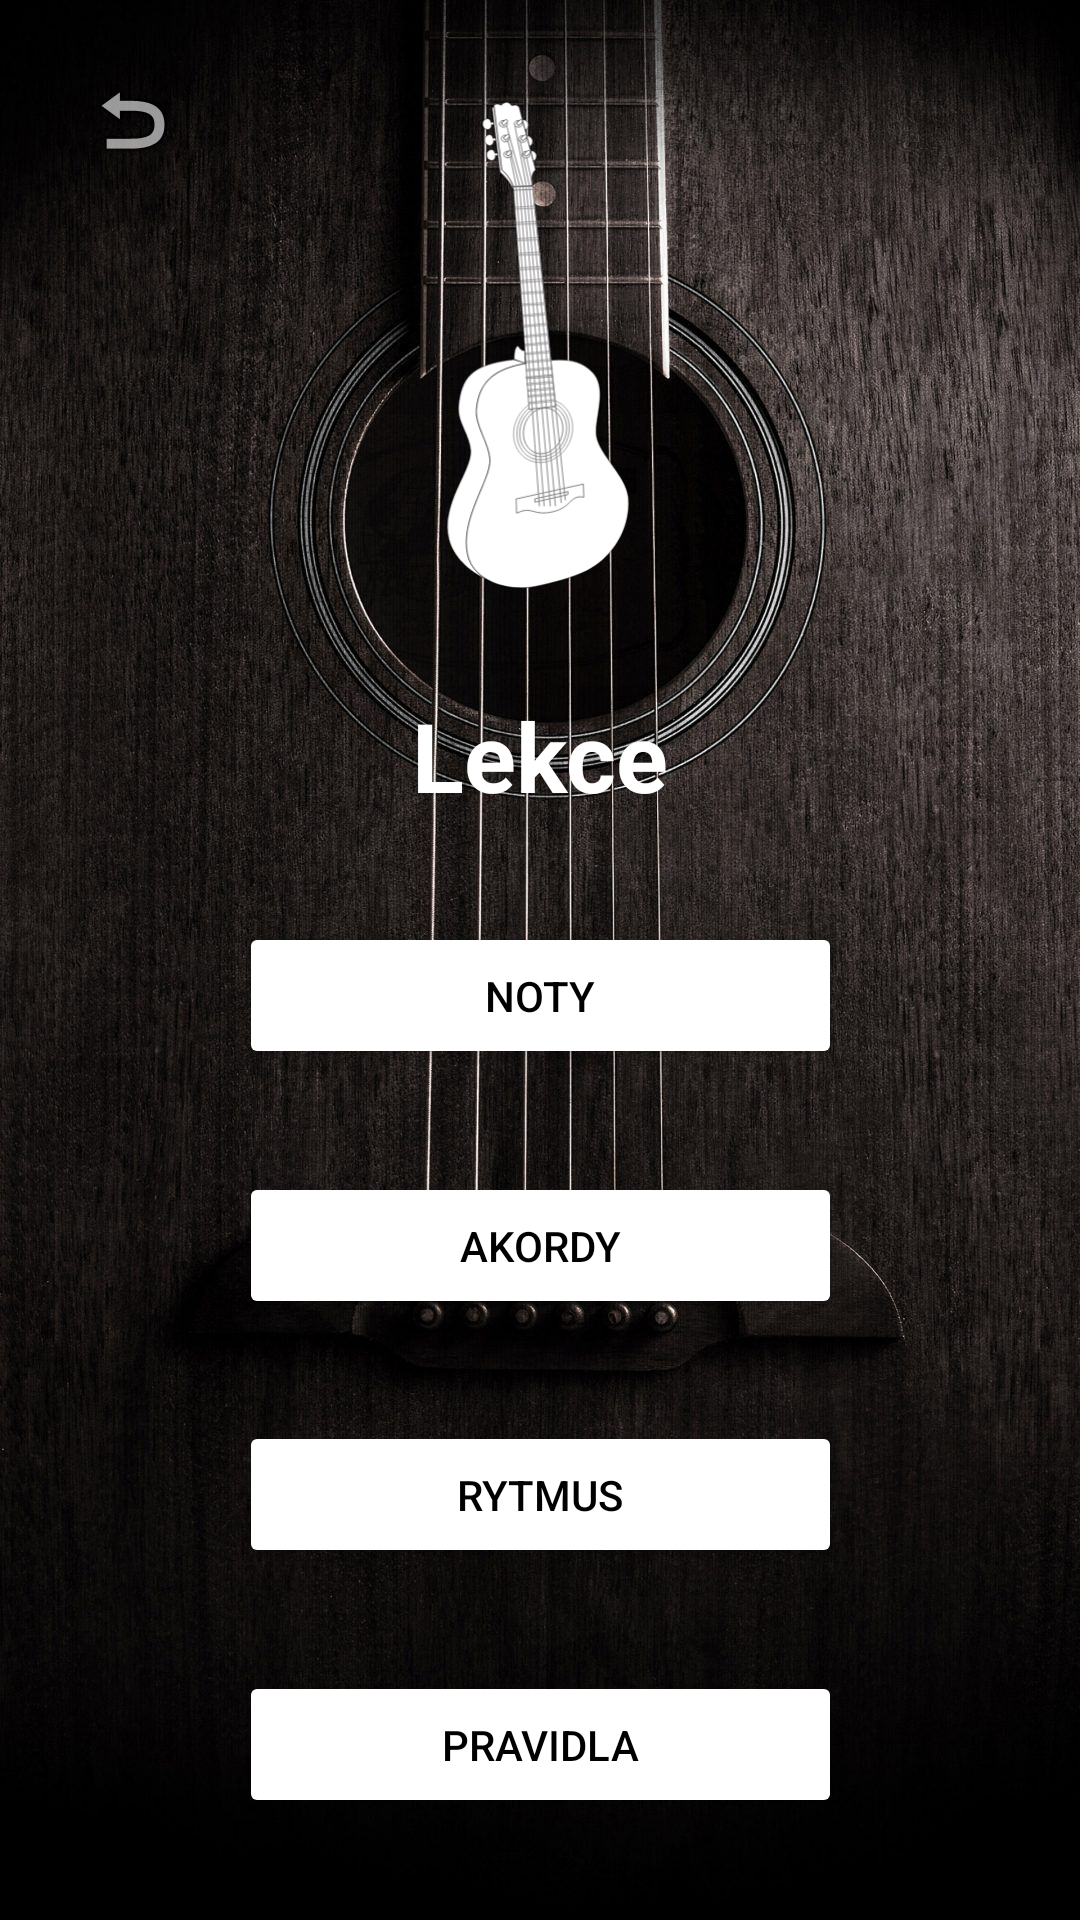

Locate icon controls on the screen. Image size 1080 x 1920, boxes as BBox(x1, y1, x2, y2).
revert: BBox(102, 92, 211, 192)
